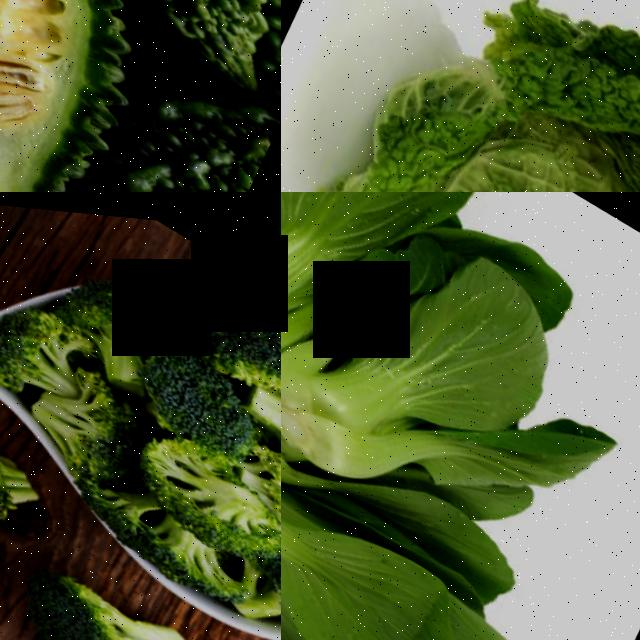bitter gourd: (0, 0, 159, 192)
bok choy: (281, 212, 581, 566), (281, 391, 455, 640), (281, 192, 421, 403)
broccoli: (103, 316, 274, 479), (0, 532, 257, 640), (127, 416, 281, 574), (0, 265, 91, 404), (0, 378, 63, 578), (178, 270, 281, 379), (245, 361, 281, 502), (237, 548, 281, 640)
cabbage: (281, 0, 640, 192)
